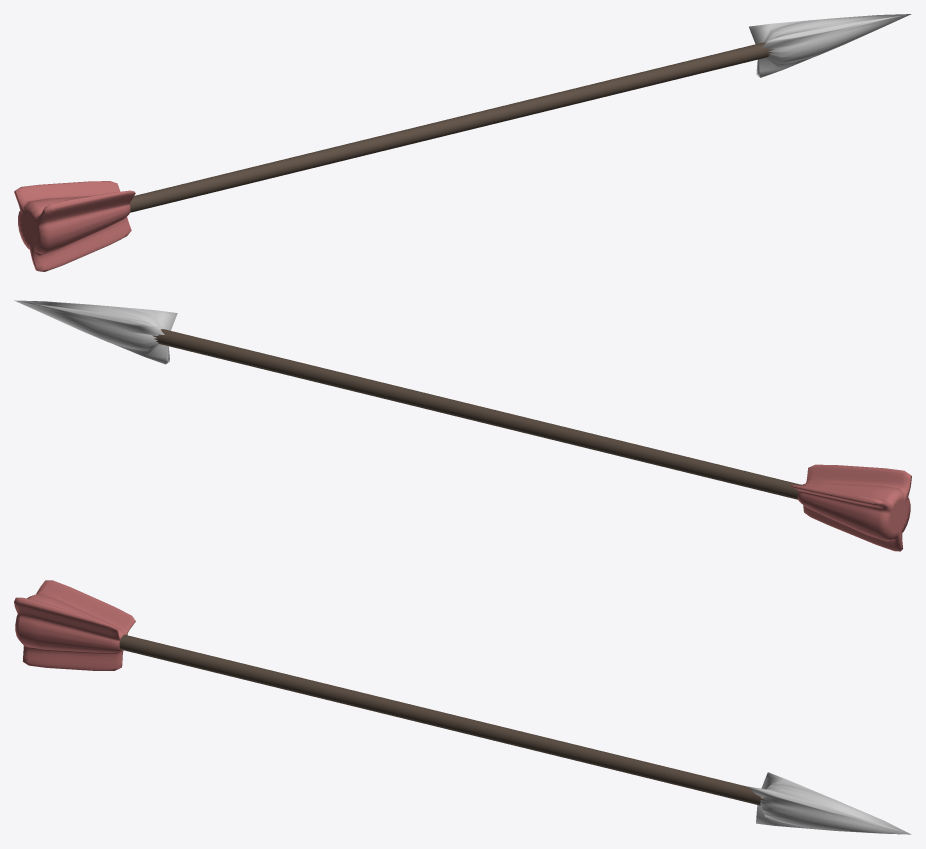
The model's file is flech_arrow.fbx.
3 renders of one model, top to bottom at view 1: azimuth 30°, elevation 25°; view 2: azimuth 150°, elevation 25°; view 3: azimuth 330°, elevation 25°, orthographic.
Parts seen in each view (by area): view 1: bois, plume, bout; view 2: bois, plume, bout; view 3: bois, plume, bout.
Part boxes in pixels (x1,y1,x2,y2): bois: [129, 42, 773, 212]; plume: [14, 181, 135, 271]; bout: [749, 14, 911, 77]; bois: [152, 329, 801, 499]; plume: [790, 464, 911, 551]; bout: [14, 300, 177, 364]; bois: [119, 634, 765, 805]; plume: [14, 580, 135, 670]; bout: [748, 772, 911, 834].
Bounding box in the file's own units: 18.38 × 1.47 × 1.24.
